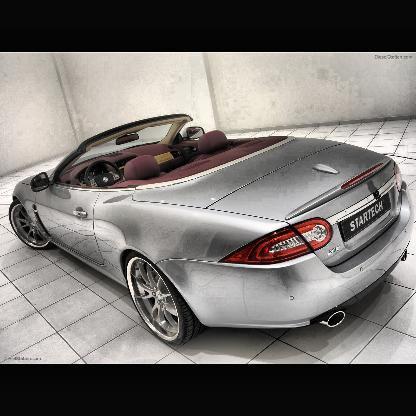Jaguar XK XKR 2012: (9, 114, 416, 348)
